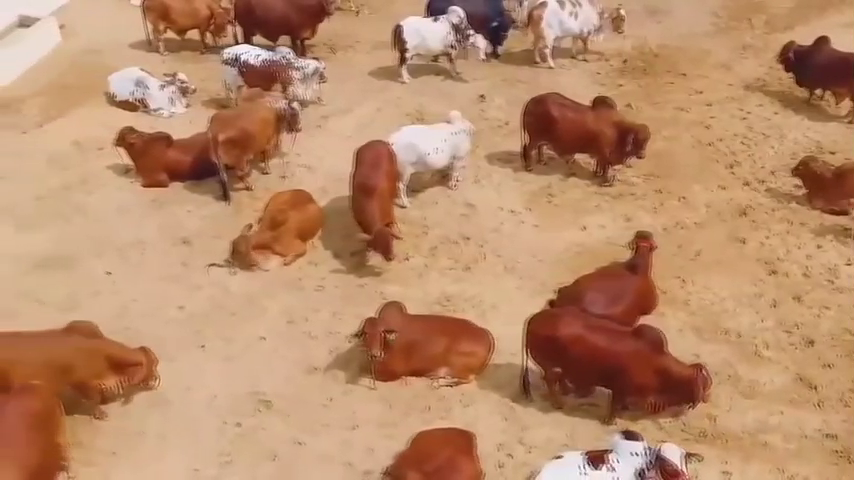bo: (513, 305, 722, 419), (4, 311, 168, 430), (353, 290, 500, 398), (514, 78, 652, 193), (500, 416, 720, 479), (543, 224, 673, 321), (195, 81, 298, 190), (223, 177, 331, 278), (755, 19, 853, 125), (338, 128, 407, 270), (379, 101, 468, 208), (100, 118, 224, 192), (390, 4, 488, 94), (2, 378, 86, 480), (218, 38, 328, 109), (360, 414, 490, 474), (92, 50, 195, 125), (524, 5, 635, 70), (134, 1, 235, 70), (420, 1, 516, 67), (229, 2, 342, 53), (783, 147, 854, 216)
